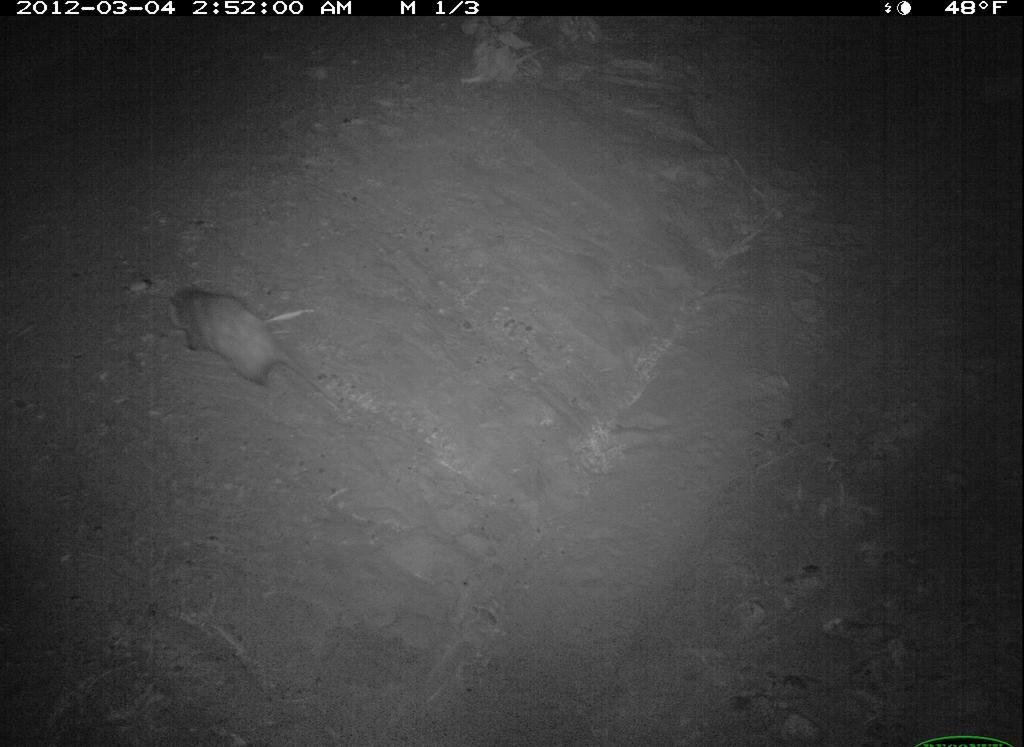opossum: (159, 265, 345, 419)
